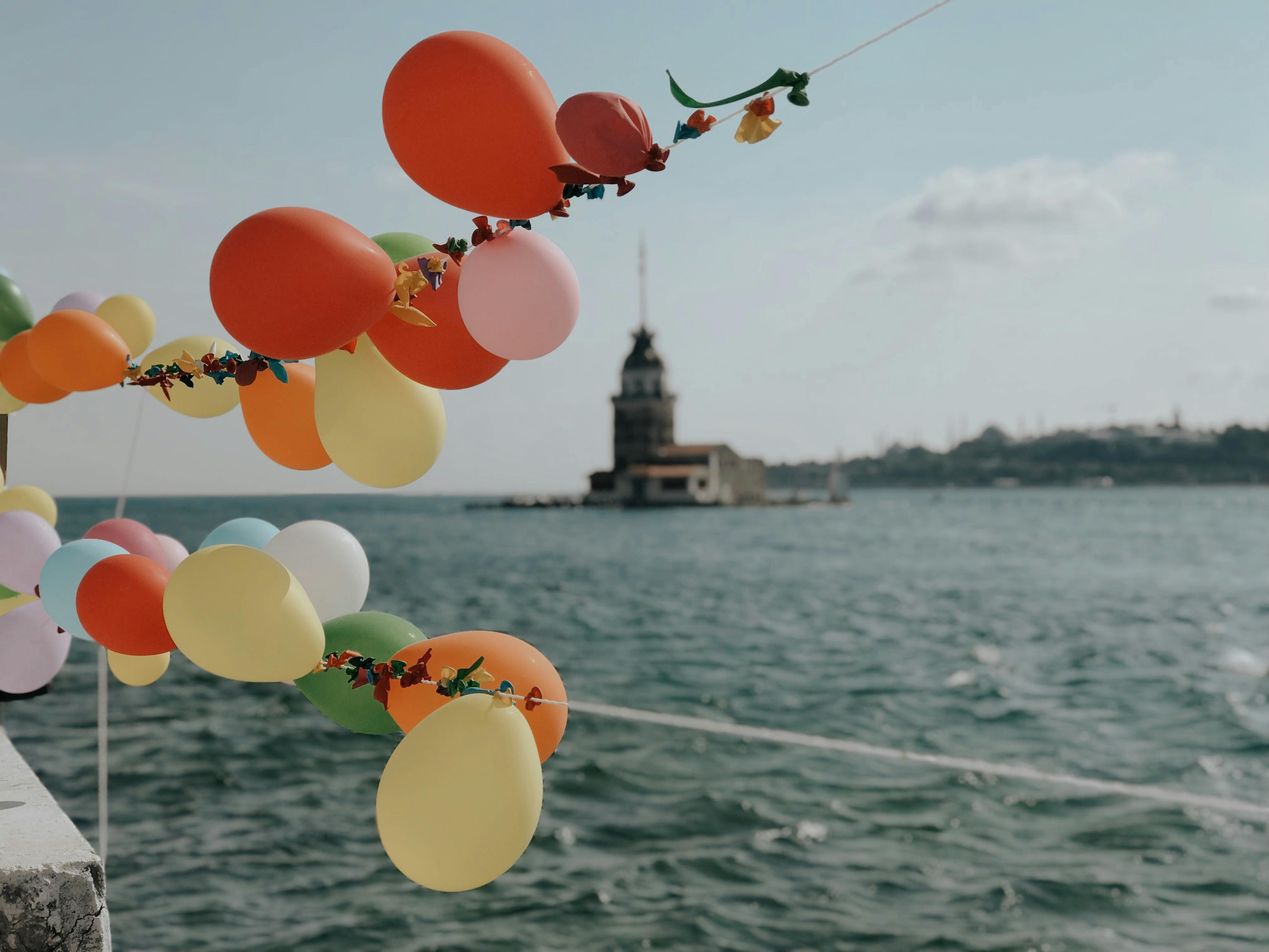balloon: (382, 31, 571, 351), (377, 696, 543, 891), (210, 207, 396, 359), (388, 631, 567, 762), (163, 545, 323, 682), (367, 236, 507, 389), (315, 333, 444, 488), (296, 613, 426, 734), (458, 230, 579, 359), (263, 520, 369, 622), (76, 554, 176, 655), (239, 364, 331, 470), (38, 539, 127, 639), (556, 92, 653, 177), (29, 310, 129, 391), (141, 336, 239, 417), (0, 601, 71, 693), (0, 330, 70, 403), (0, 511, 61, 594), (95, 294, 155, 358), (84, 518, 160, 561), (200, 518, 279, 550), (0, 486, 57, 526), (0, 273, 33, 342), (107, 651, 169, 686), (0, 344, 25, 415), (155, 534, 189, 573), (51, 292, 101, 313), (0, 594, 37, 615)
